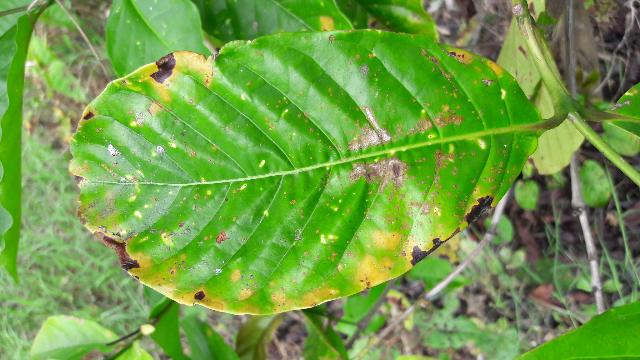rust_level_4: (74, 38, 545, 313)
